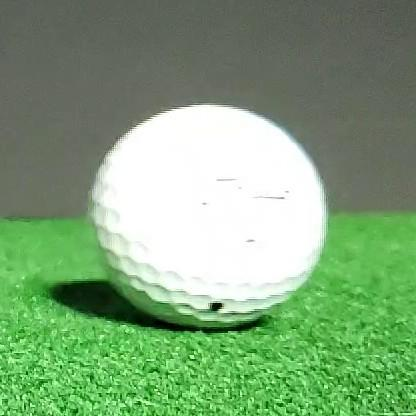golfball: (90, 106, 326, 329)
